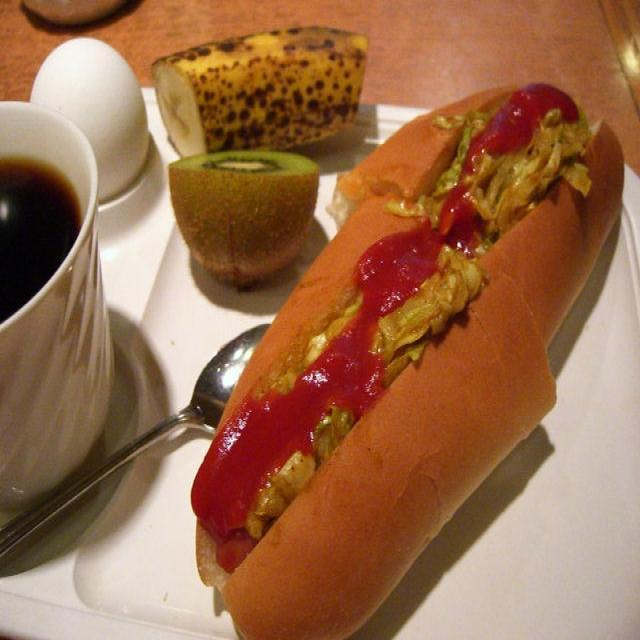Hot Dog: (197, 77, 637, 629)
Kiwi: (167, 140, 315, 282)
